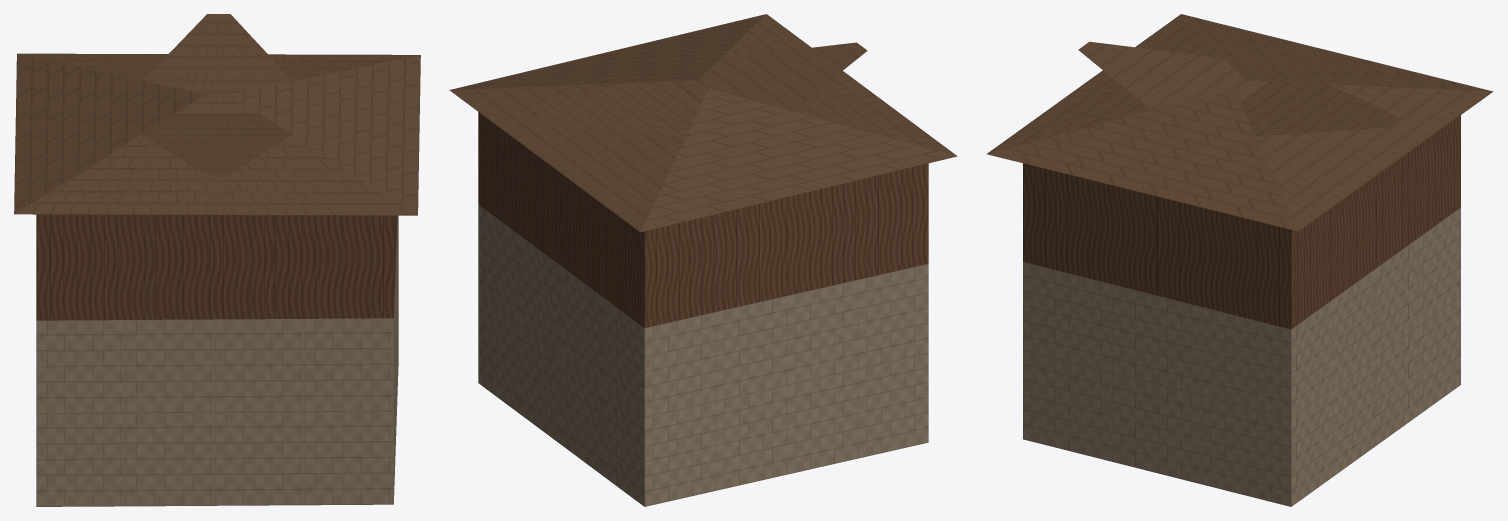
Rendered from bld_c43_30_273.gltf.
3 views of the same model, side by side, from view 1: azimuth 30°, elevation 25°; view 2: azimuth 150°, elevation 25°; view 3: azimuth 270°, elevation 25° (orthographic). The views are drawn at different scales.
Visible parts, largest first — view 1: bld_c43_30_273; view 2: bld_c43_30_273; view 3: bld_c43_30_273.
Boxes of the visible parts, box(x1,y1,x2,y2) form: bld_c43_30_273: box(14, 14, 420, 506); bld_c43_30_273: box(449, 14, 957, 506); bld_c43_30_273: box(986, 14, 1493, 506).
Bounding box in the file's own units: 12.18 × 8.5 × 11.99.
3 materials, 3 textured.
